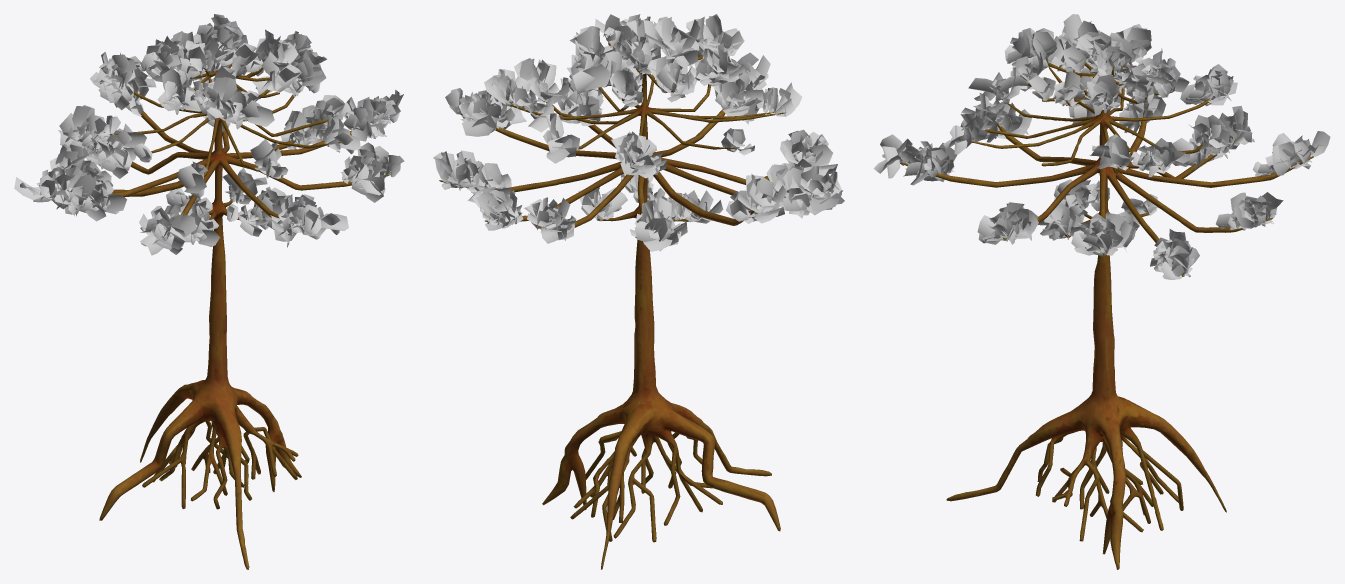
The model's file is Araucaria.fbx.
3 renders of one model, left to right at view 1: azimuth 30°, elevation 25°; view 2: azimuth 150°, elevation 25°; view 3: azimuth 270°, elevation 25°, orthographic. The views are drawn at different scales.
Visible parts, largest first — view 1: Leafs2, Leafs, Tree_lp; view 2: Leafs, Tree_lp, Leafs2; view 3: Tree_lp, Leafs, Leafs2.
Boxes of the visible parts, <box> form: Leafs2: <box>20,14,400,249</box>; Leafs: <box>14,17,404,255</box>; Tree_lp: <box>99,63,390,569</box>; Leafs: <box>433,14,844,245</box>; Tree_lp: <box>439,35,796,569</box>; Leafs2: <box>435,14,842,251</box>; Tree_lp: <box>901,62,1313,569</box>; Leafs: <box>873,14,1330,279</box>; Leafs2: <box>882,20,1327,279</box>.
Bounding box in the file's own units: 6140 × 7347 × 6123.
